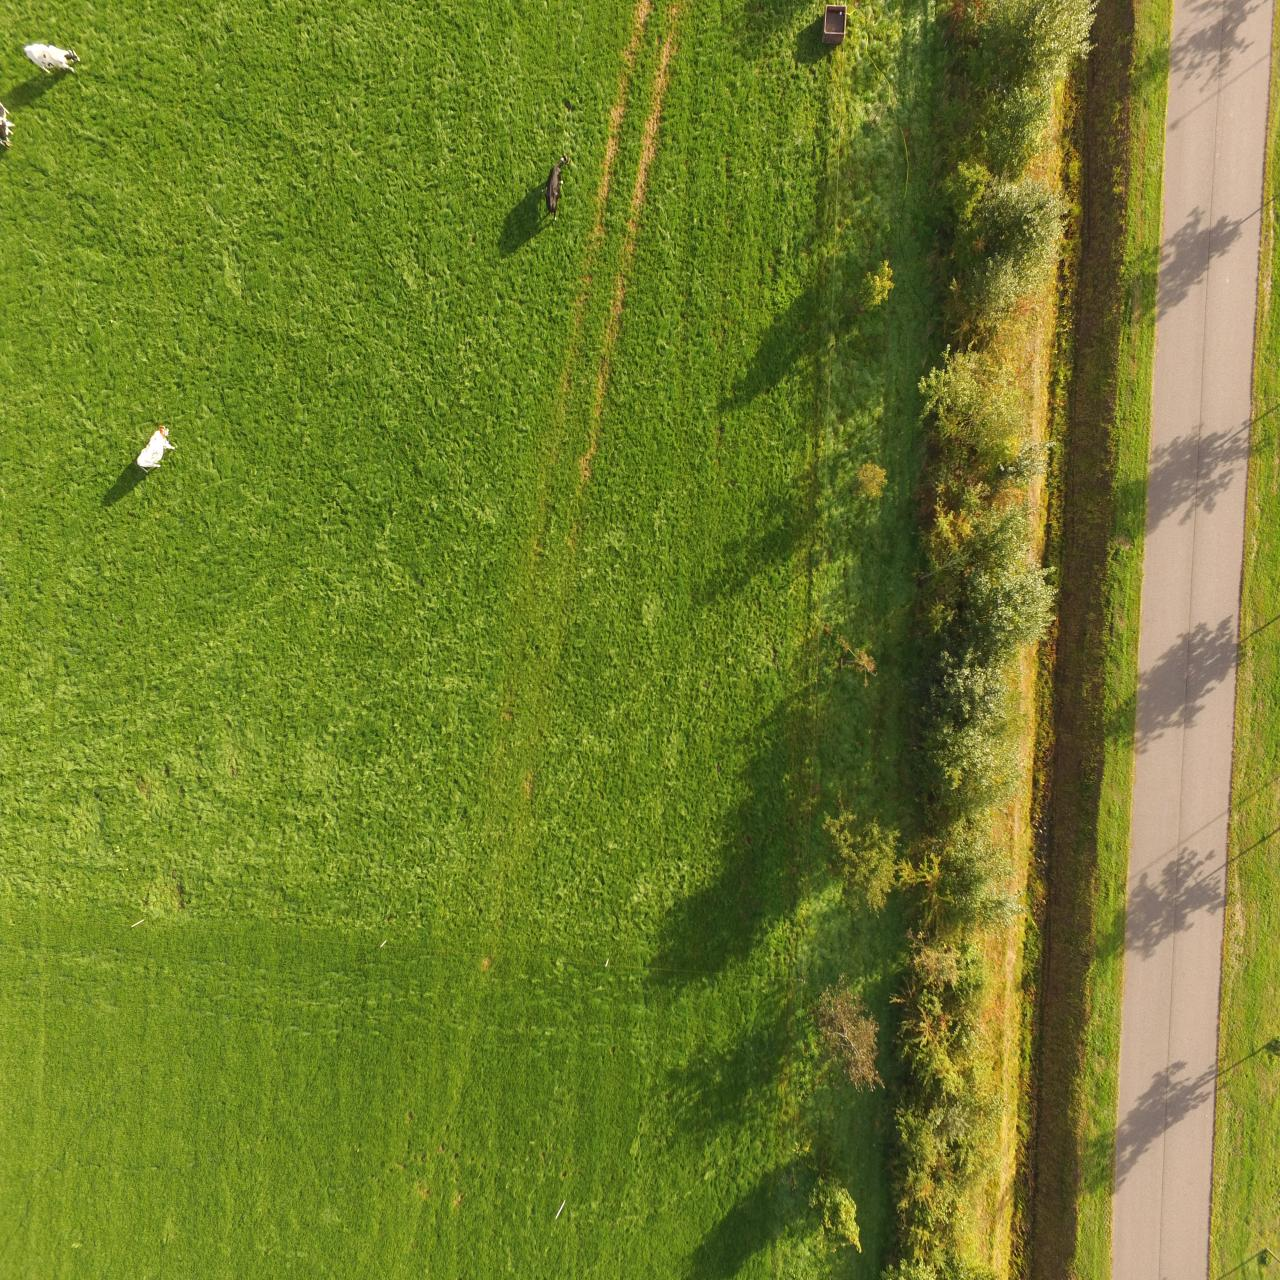cow: (540, 150, 573, 223), (135, 422, 178, 475), (21, 40, 81, 75)
